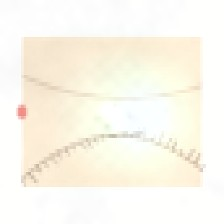hemorrhage_spot: (112, 93, 185, 152)
